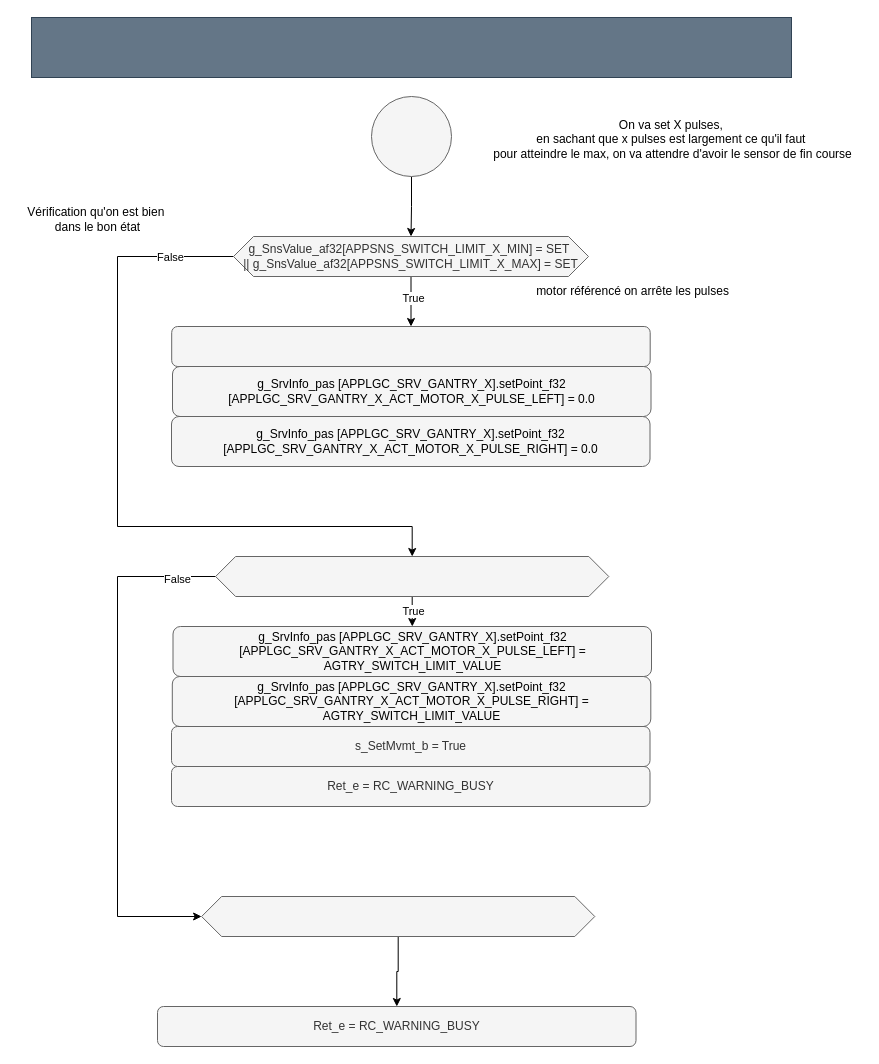
Image size: 879x1064. Some labels were removed from this diagram. Each missing label, with the centre of its shape:
Ret_e = RC_OK: (x=410, y=346)
s_GMCF_ReferenceAxeX ( void ): (x=411, y=47)
s_SetMvmt_b == False ??: (x=412, y=576)
Start: (x=411, y=136)
